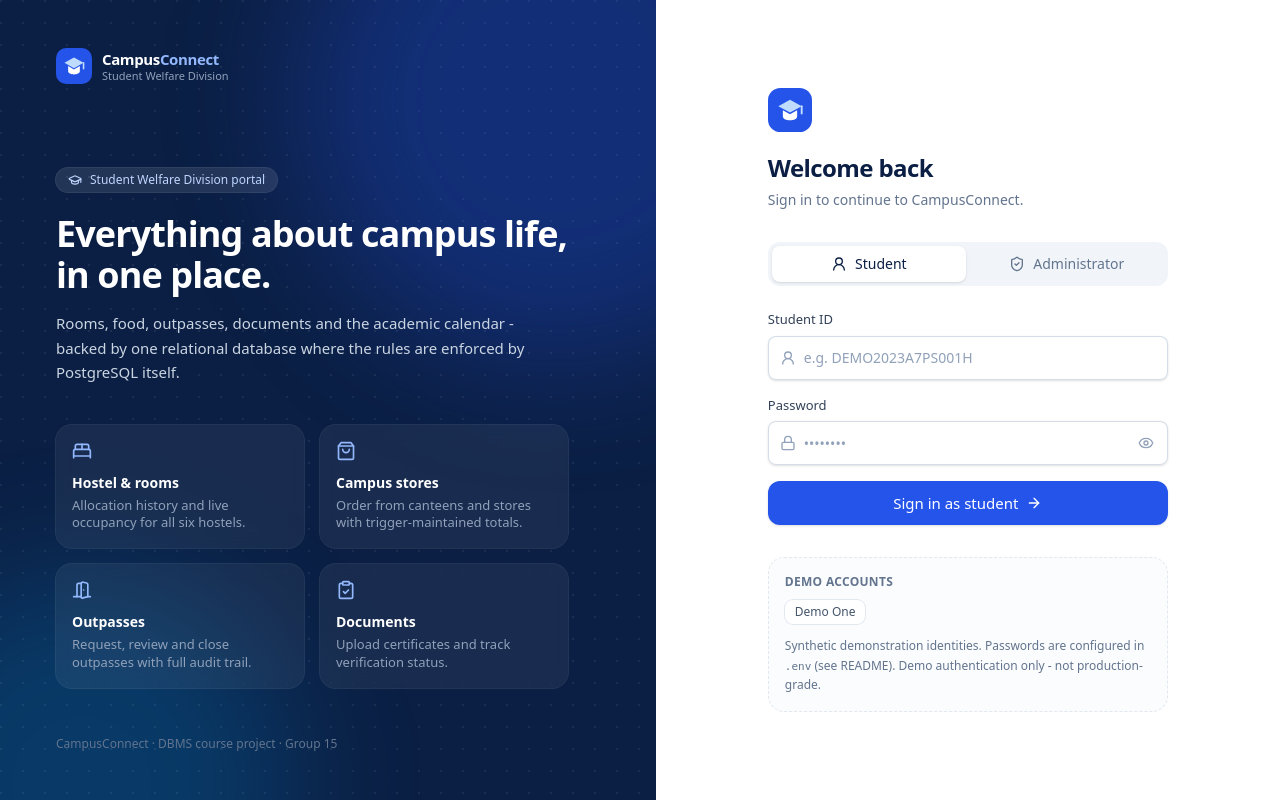
Test: Login page › fills a demo identity when its chip is clicked
The width and height of the screenshot is (1280, 800).
Click the button "Demo One": (825, 612) [785,600,866,624]
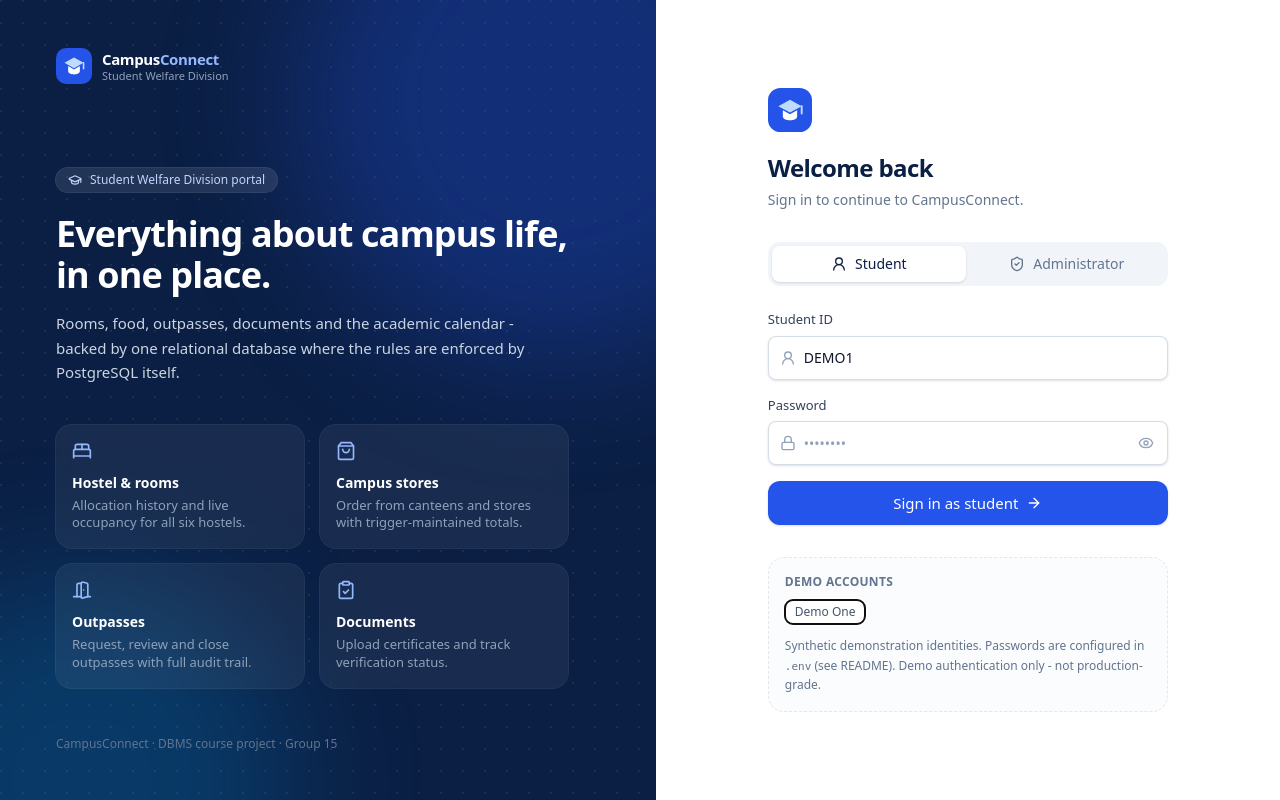
Check: the field labelled "Student ID" holds "DEMO1", box [768,336,1168,380]
